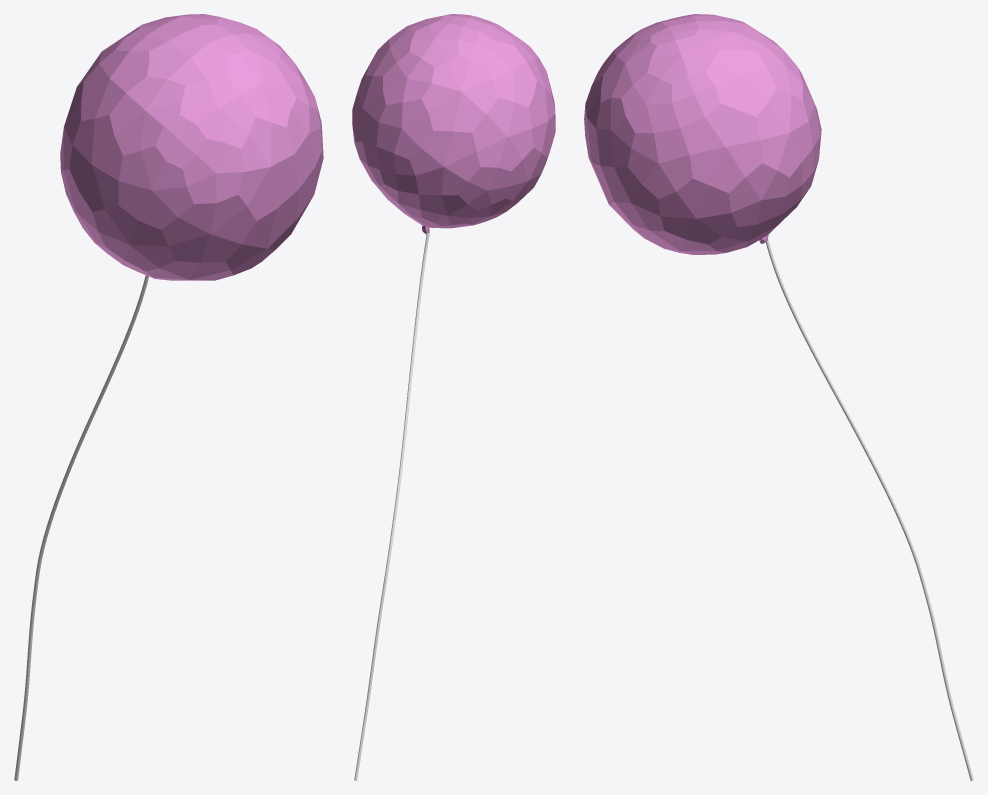
Rendered from BallonPink.fbx.
3 renders of one model, left to right at view 1: azimuth 30°, elevation 25°; view 2: azimuth 150°, elevation 25°; view 3: azimuth 270°, elevation 25°, orthographic. The views are drawn at different scales.
Visible parts, largest first — view 1: BallonPink; view 2: BallonPink; view 3: BallonPink.
Boxes of the visible parts, x1,y1,x2,y2 form: BallonPink: [14, 14, 323, 780]; BallonPink: [352, 14, 555, 780]; BallonPink: [584, 14, 973, 780].
Bounding box in the file's own units: 133 × 480 × 221.
